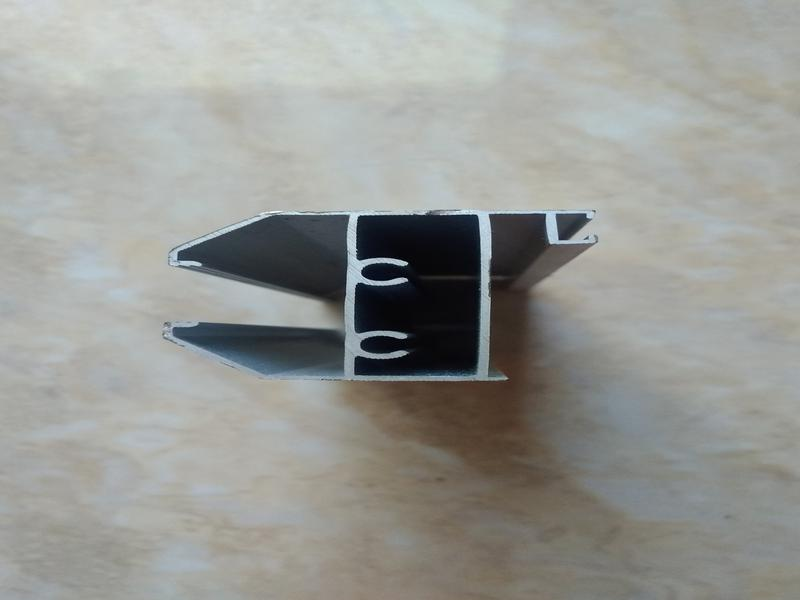Aluminium_3: (132, 168, 634, 412)
